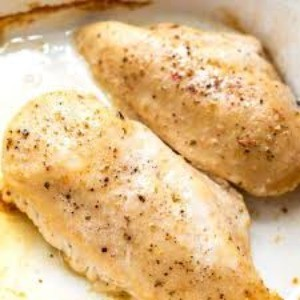chicken breast_brain food: (174, 48, 261, 154), (62, 168, 178, 235)
